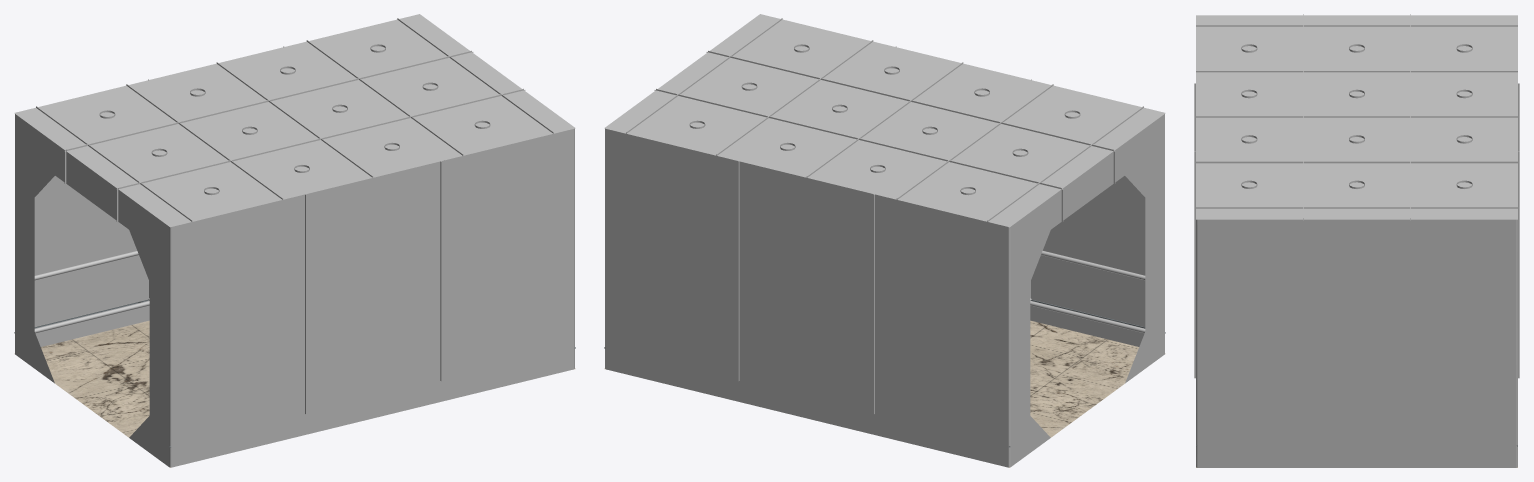
Rendered from elevator.fbx.
The picture shows the model from 3 angles, left to right: view 1: azimuth 30°, elevation 25°; view 2: azimuth 150°, elevation 25°; view 3: azimuth 270°, elevation 25°; orthographic projection. The views are drawn at different scales.
Parts seen in each view (by area): view 1: elevator walls, elevator roof, elevator floor, holder; view 2: elevator walls, elevator roof, elevator floor, holder; view 3: elevator walls, elevator roof.
Part boxes in pixels (<box>): elevator walls: <box>15,46,574,467</box>; elevator roof: <box>14,14,575,227</box>; elevator floor: <box>14,320,575,467</box>; holder: <box>34,251,149,333</box>; elevator walls: <box>605,46,1164,467</box>; elevator roof: <box>604,14,1165,227</box>; elevator floor: <box>604,320,1165,467</box>; holder: <box>1030,251,1145,333</box>; elevator walls: <box>1194,83,1519,467</box>; elevator roof: <box>1196,14,1517,219</box>.
Size of the model in its own units: 604 by 343 by 404.
